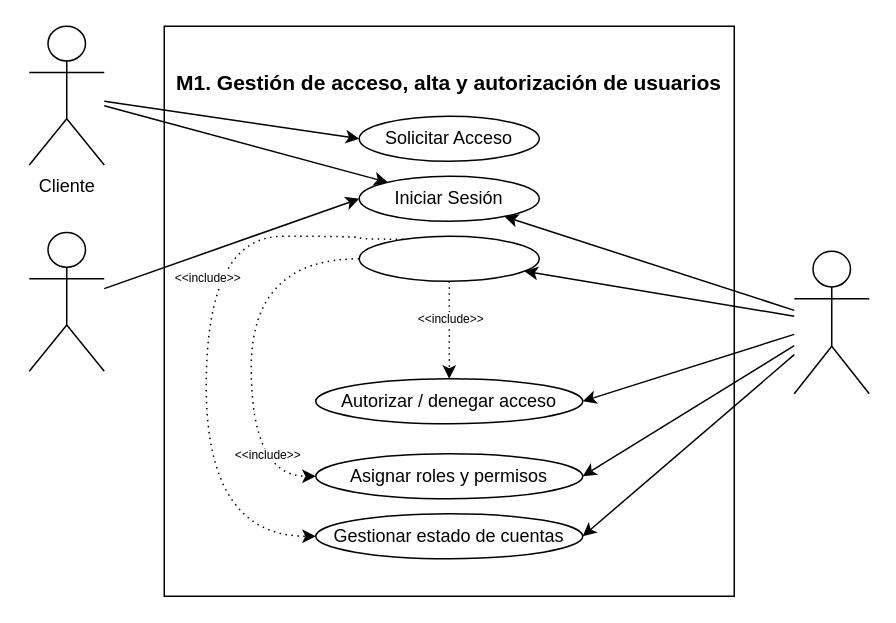
Some shapes in this 896 by 623 pixel diagram are drawn without their labels. The centre of each missing label's shape, as x and y in pixels:
"Admin" belongs at (x=831, y=322).
"Comercial" belongs at (x=66, y=301).
"Gestionar Usuarios" belongs at (x=448, y=258).
